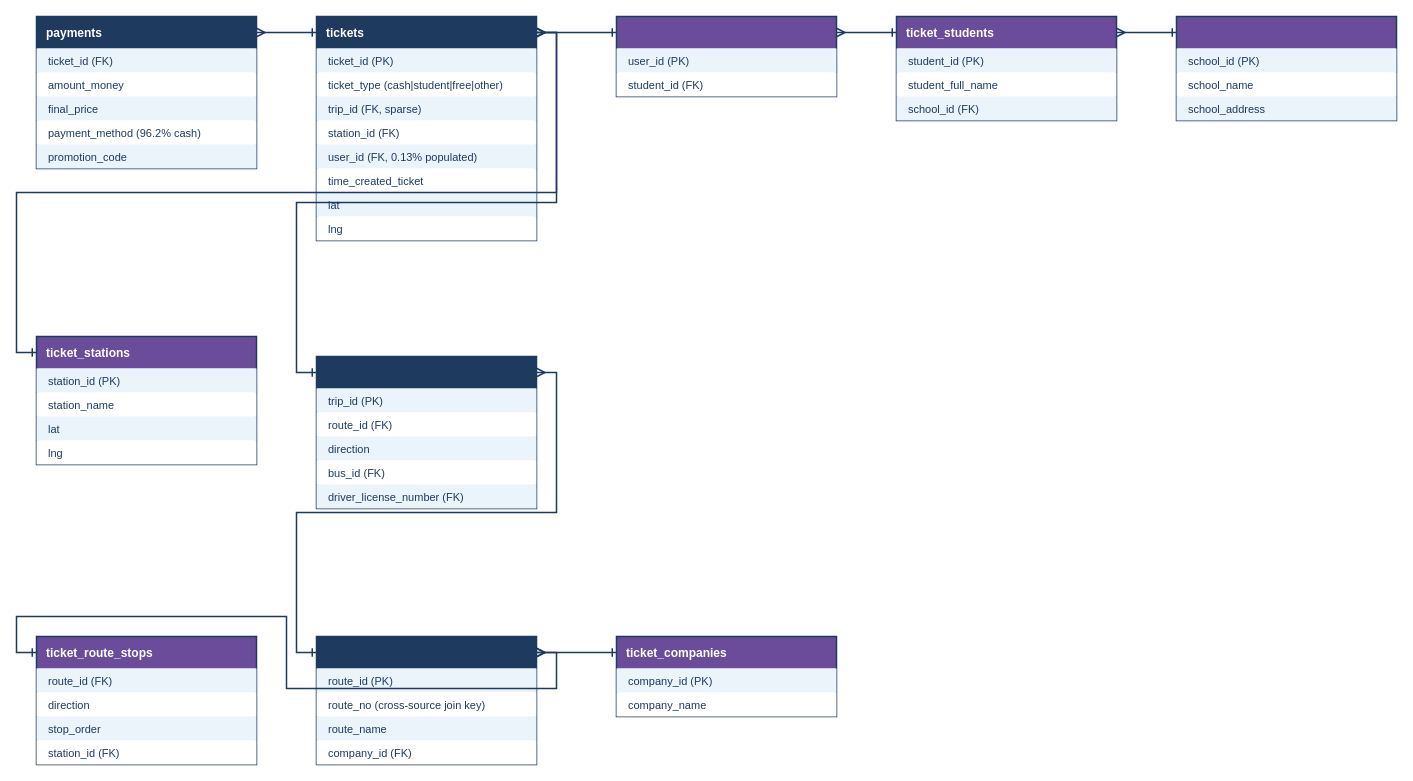
This 1413x781 diagram has some shape labels left out. Each missing label, with the centre of its shape:
"ticket_routes" belongs at point 426,652.
"ticket_schools" belongs at point 1286,32.
"ticket_trips" belongs at point 426,372.
"ticket_users" belongs at point 726,32.
